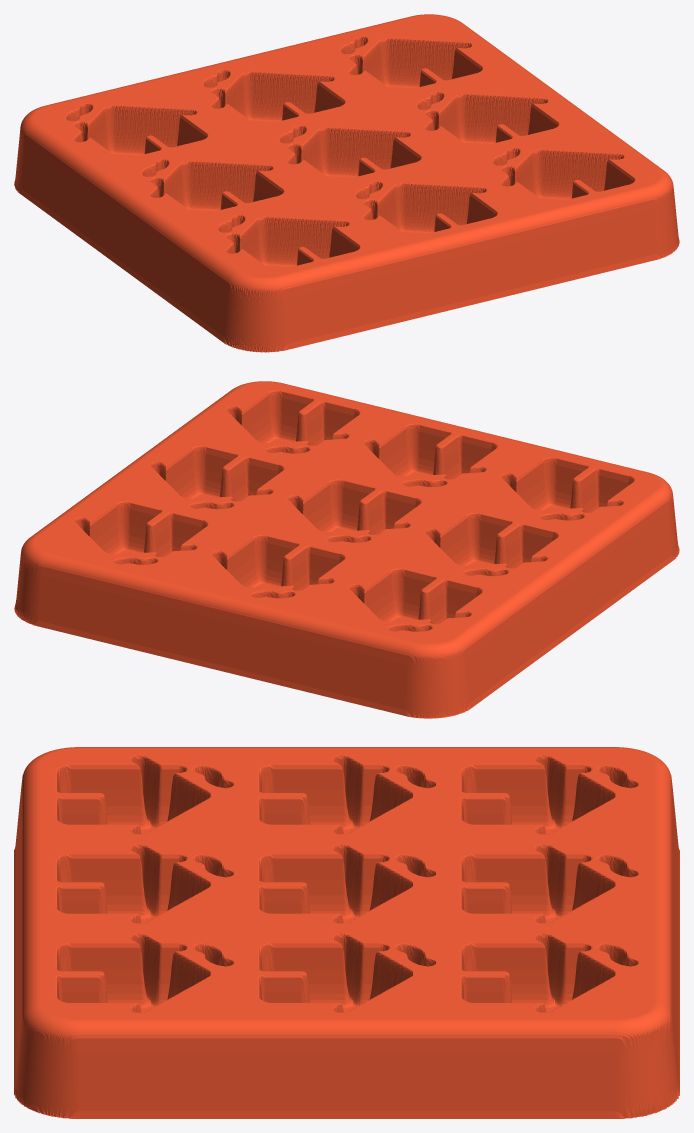
Rendered from mold.glb.
3 renders of one model, top to bottom at view 1: azimuth 30°, elevation 25°; view 2: azimuth 150°, elevation 25°; view 3: azimuth 270°, elevation 25°, orthographic. The views are drawn at different scales.
Parts seen in each view (by area): view 1: geometry_0; view 2: geometry_0; view 3: geometry_0.
Boxes of the visible parts, left/top/right/bottom form: geometry_0: left=14, top=14, right=679, bottom=352; geometry_0: left=14, top=381, right=679, bottom=718; geometry_0: left=14, top=747, right=679, bottom=1118.
Size of the model in its own units: 0.0964 by 0.0136 by 0.0928.
